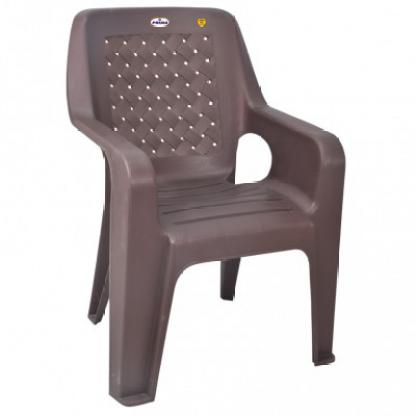chair: (65, 6, 343, 410)
